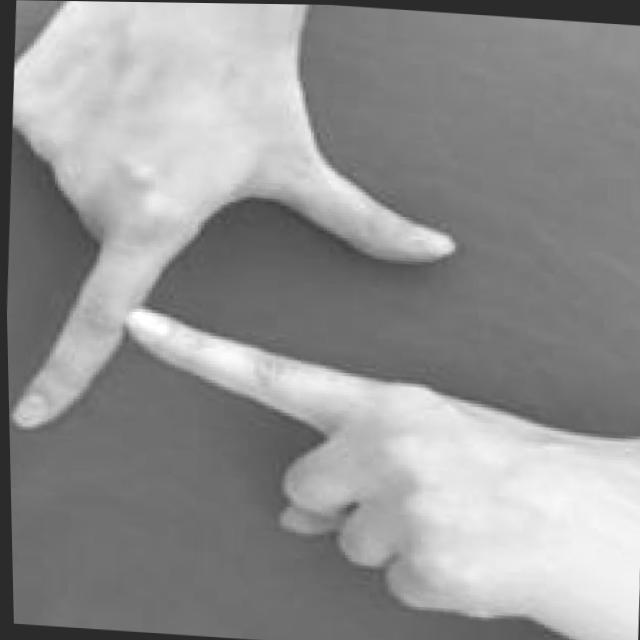F: (0, 0, 488, 616)
